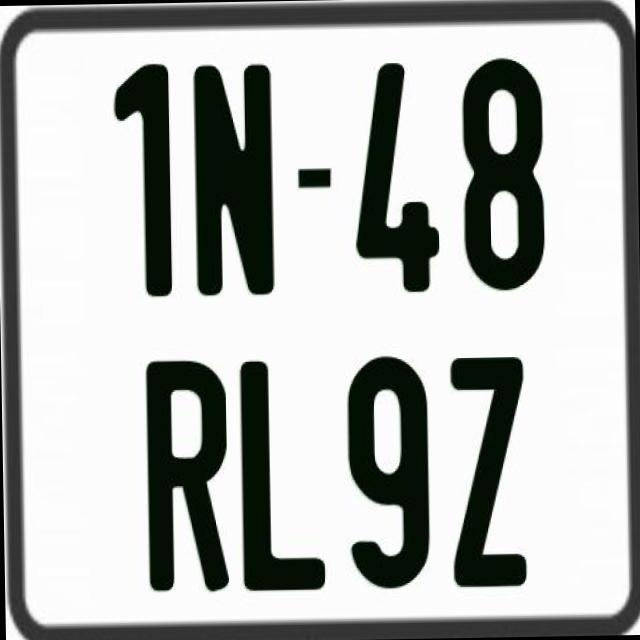1: (112, 58, 174, 294)
4: (353, 58, 445, 289)
8: (458, 52, 550, 296)
9: (342, 354, 432, 590)
L: (235, 356, 322, 596)
N: (192, 60, 280, 298)
R: (146, 356, 236, 596)
Z: (448, 356, 526, 592)
